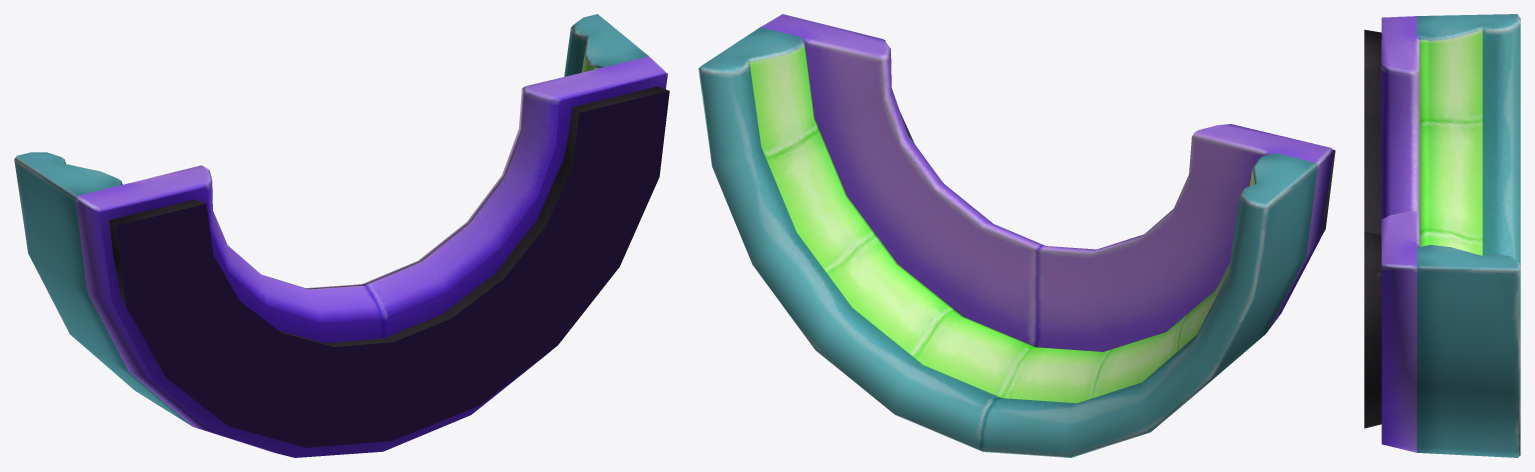
The model's file is Booth.fbx.
3 views of the same model, side by side, from view 1: azimuth 30°, elevation 25°; view 2: azimuth 150°, elevation 25°; view 3: azimuth 270°, elevation 25° (orthographic). The views are drawn at different scales.
Parts seen in each view (by area): view 1: Booth; view 2: Booth; view 3: Booth.
Part boxes in pixels (x1,y1,x2,y2): Booth: (14, 14, 669, 457); Booth: (698, 14, 1335, 457); Booth: (1364, 14, 1520, 457).
Bounding box in the file's own units: 371 × 197 × 95.76.
